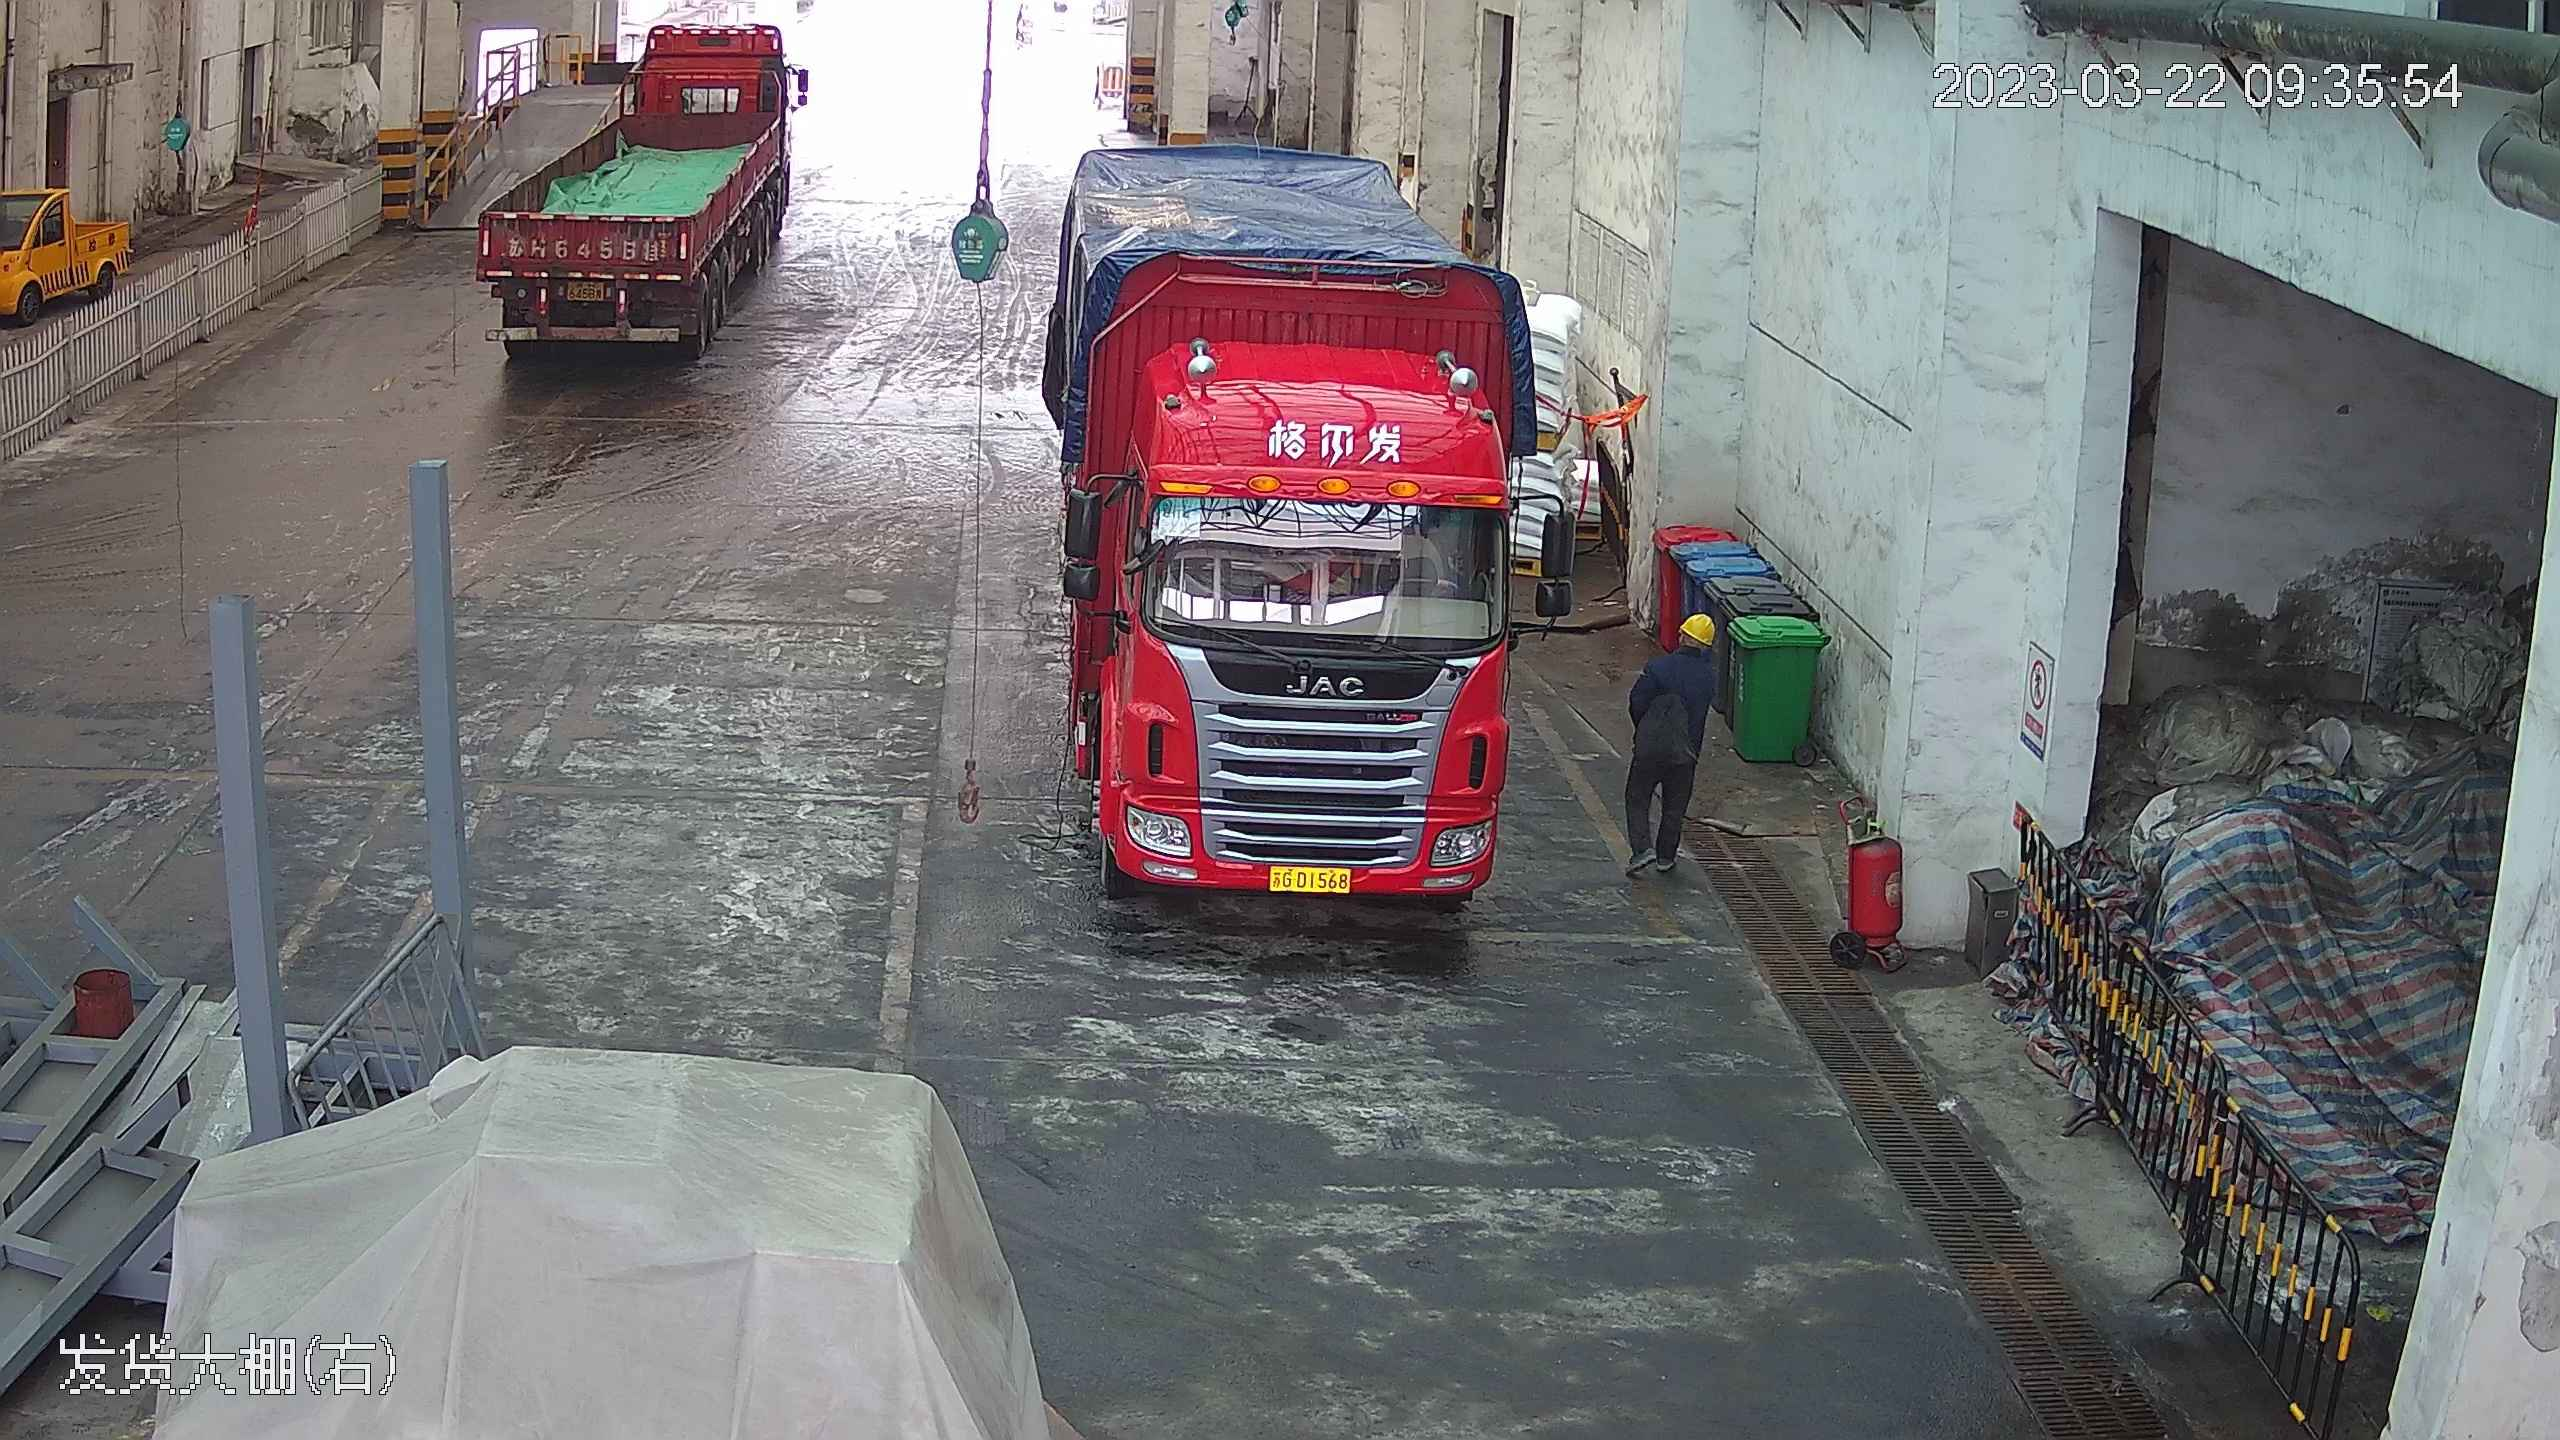head: (1633, 608, 1717, 695)
helmet: (1675, 608, 1718, 647)
people: (1615, 602, 1717, 877)
truck: (1027, 32, 1591, 925), (461, 7, 806, 350)
